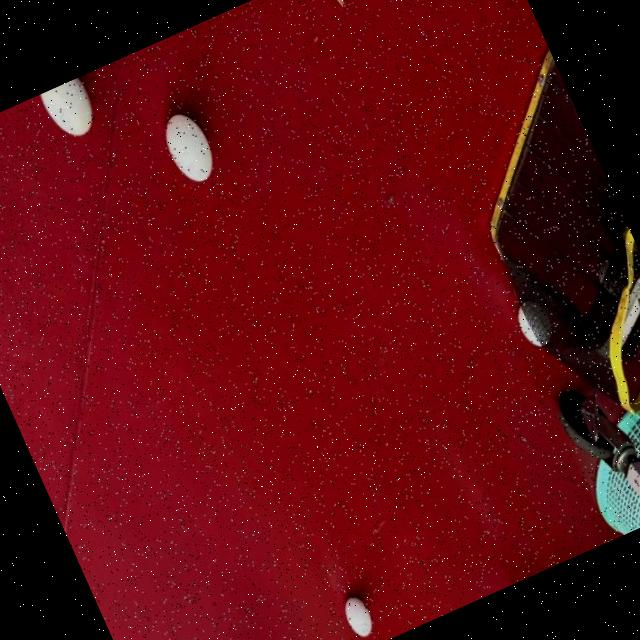ping-pong-ball: (154, 102, 222, 190), (38, 77, 101, 146), (509, 292, 558, 352), (337, 591, 377, 640)
